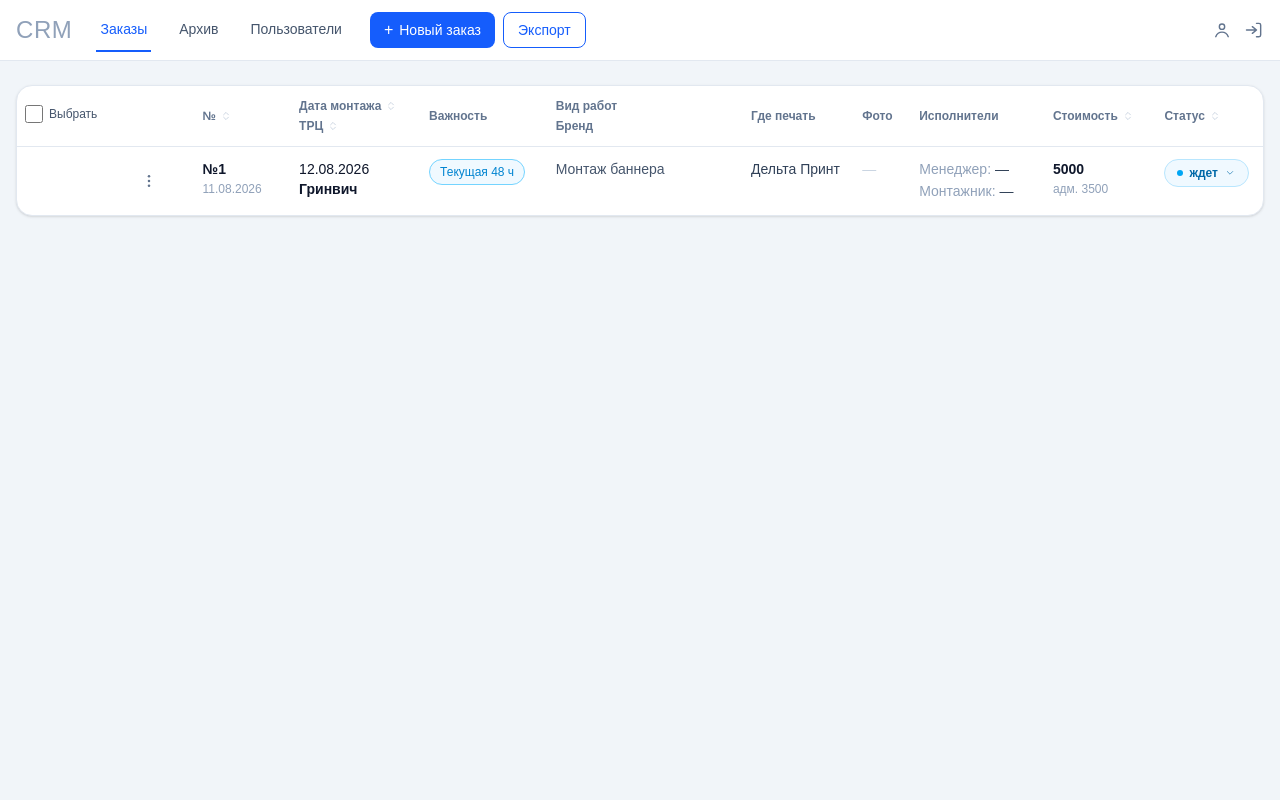
Test case: OrdersPage — групповой выбор заявок (главный чекбокс «Выбрать») › включение главного чекбокса показывает чекбоксы строк, выбирает все заявки и открывает панель групповых действий
What coordinates should you click on to do the following:
click the checkbox labelled "Выбрать"
I would click on:
 (34, 114)
Its box is [25, 105, 43, 123].
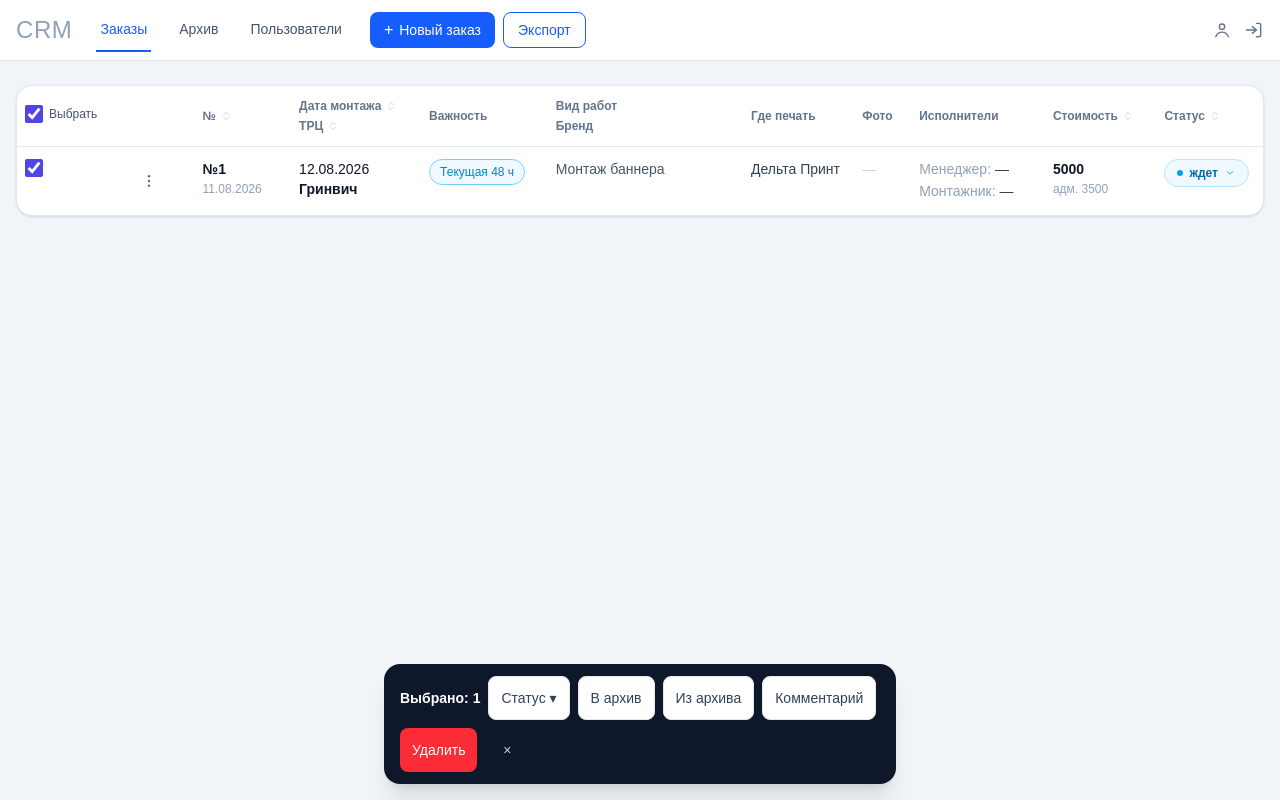
Result: the checkbox named "Выбрать заявку №1" is shown at [25, 159, 43, 177]
Result: the text "Выбрано: 1" is shown at [400, 688, 480, 708]
